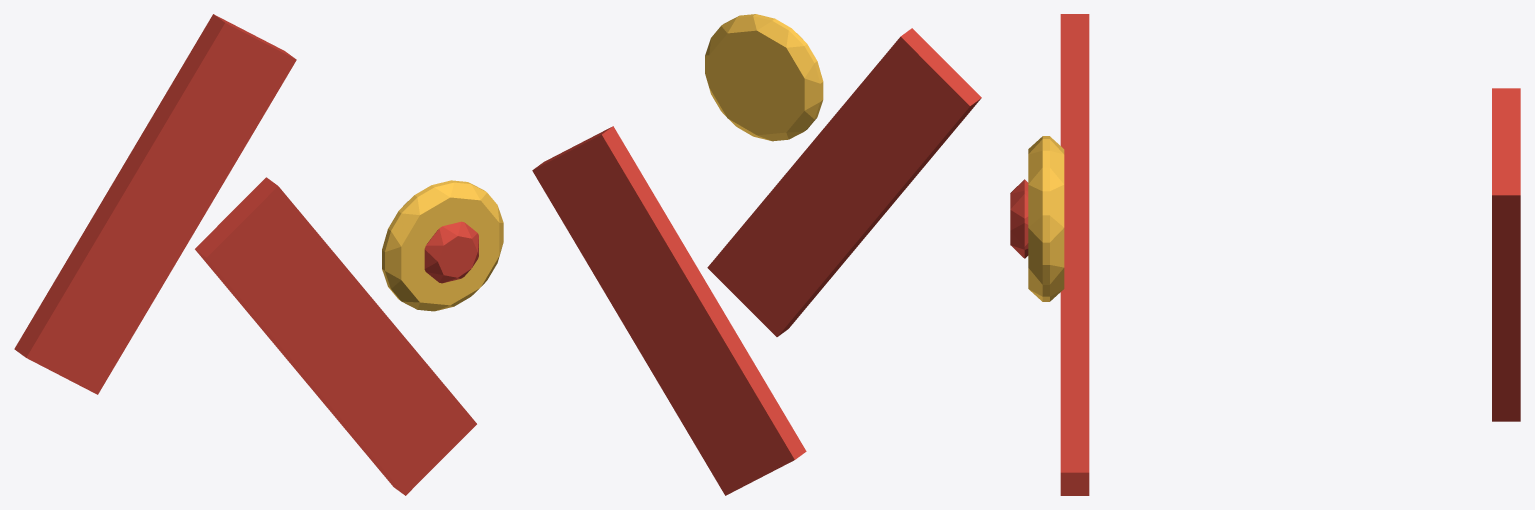
The model's file is CatCafe_Accessory_Sash.glb.
3 views of the same model, side by side, from view 1: azimuth 30°, elevation 25°; view 2: azimuth 150°, elevation 25°; view 3: azimuth 270°, elevation 25° (orthographic). The views are drawn at different scales.
Parts seen in each view (by area): view 1: CatCafe_Accessory_Sash; view 2: CatCafe_Accessory_Sash; view 3: CatCafe_Accessory_Sash.
Part boxes in pixels (x1,y1,x2,y2): CatCafe_Accessory_Sash: (14,14,503,495); CatCafe_Accessory_Sash: (532,14,981,495); CatCafe_Accessory_Sash: (1010,14,1520,495).
Bounding box in the file's own units: 0.5281 × 0.5945 × 0.6745.
Materials: 1 (1 with a texture image).
